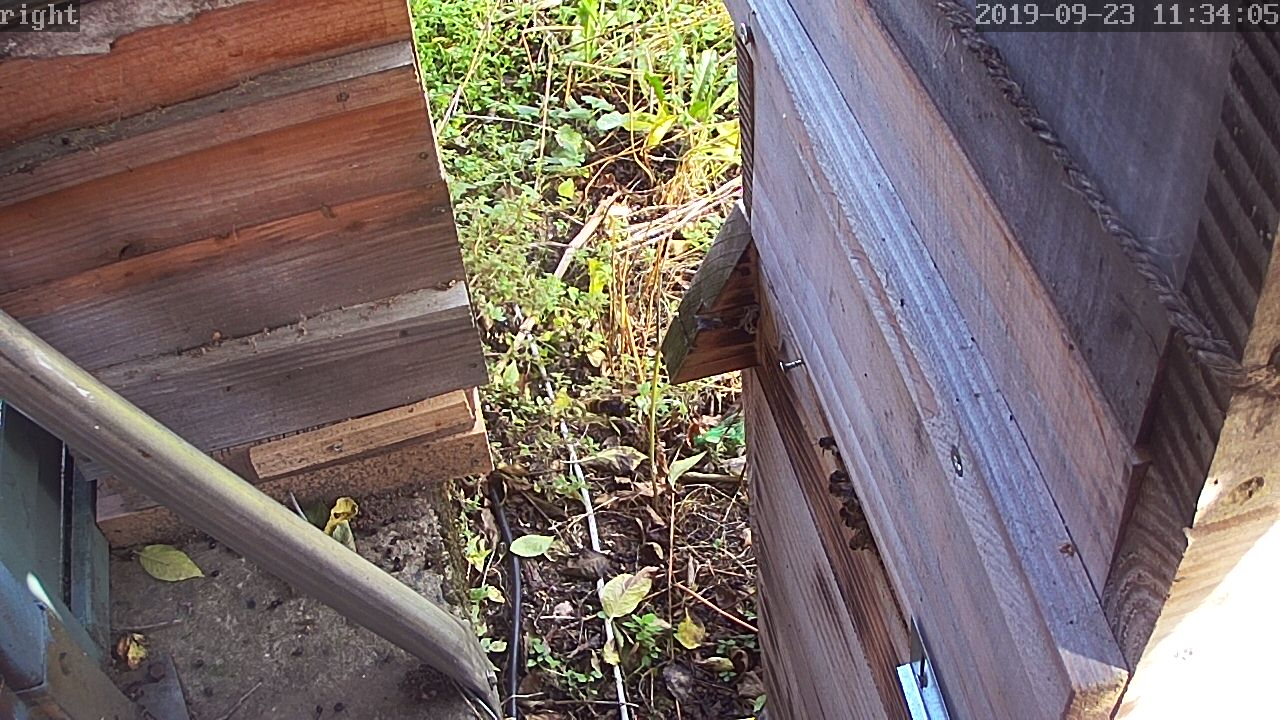bee: (835, 518, 880, 555), (828, 491, 863, 530), (818, 466, 855, 498), (807, 437, 844, 461)
hornet: (575, 392, 640, 425)
